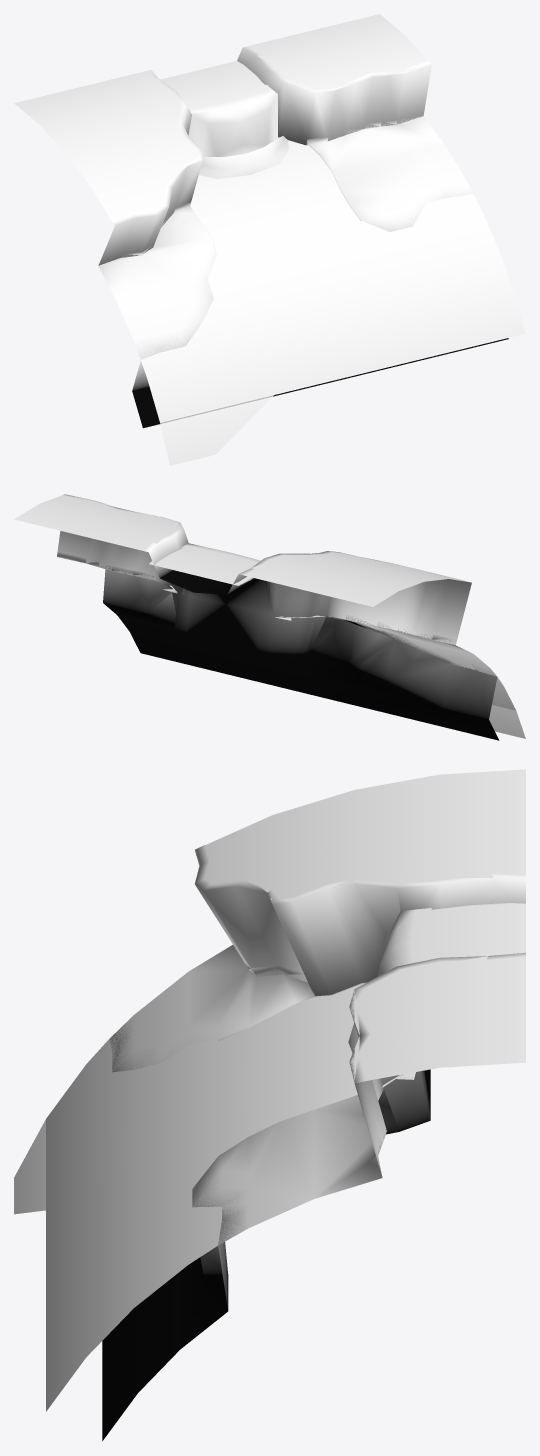
File: grd_Mse_s_R_0.dae
3 renders of one model, top to bottom at view 1: azimuth 30°, elevation 25°; view 2: azimuth 150°, elevation 25°; view 3: azimuth 270°, elevation 25°, orthographic. The views are drawn at different scales.
Visible parts, largest first — view 1: ocean_6_0, wave_9_0, grass_5_0, beach_3_0, fall_ura_1_0, beach_4_0, fall_0_0, river1_7_0, kemuri_mae_2_0, river_edge_8_0; view 2: beach_4_0, fall_ura_1_0, grass_5_0, river1_7_0, beach_3_0, wave_9_0, ocean_6_0, fall_0_0, river_edge_8_0; view 3: ocean_6_0, grass_5_0, fall_ura_1_0, beach_3_0, beach_4_0, wave_9_0, river1_7_0, fall_0_0, river_edge_8_0.
Boxes of the visible parts, x1,y1,x2,y2 form: ocean_6_0: [134, 137, 525, 422]; wave_9_0: [134, 182, 512, 465]; grass_5_0: [14, 14, 429, 223]; beach_3_0: [98, 116, 463, 339]; fall_ura_1_0: [98, 46, 431, 265]; beach_4_0: [132, 176, 508, 428]; fall_0_0: [186, 85, 277, 156]; river1_7_0: [161, 61, 264, 103]; kemuri_mae_2_0: [198, 136, 288, 178]; river_edge_8_0: [160, 61, 360, 256]; beach_4_0: [103, 569, 499, 740]; fall_ura_1_0: [57, 494, 471, 654]; grass_5_0: [14, 495, 469, 606]; river1_7_0: [150, 548, 254, 585]; beach_3_0: [57, 551, 489, 667]; wave_9_0: [367, 625, 525, 738]; ocean_6_0: [169, 585, 515, 710]; fall_0_0: [163, 543, 291, 620]; river_edge_8_0: [149, 548, 377, 630]; ocean_6_0: [46, 984, 401, 1411]; grass_5_0: [204, 769, 525, 1082]; fall_ura_1_0: [195, 845, 525, 1174]; beach_3_0: [134, 945, 384, 1227]; beach_4_0: [102, 1015, 399, 1440]; wave_9_0: [14, 1015, 252, 1355]; river1_7_0: [426, 904, 525, 959]; fall_0_0: [377, 908, 431, 1079]; river_edge_8_0: [218, 903, 525, 1155].
Bounding box in the file's own units: 512 × 332 × 378.
10 materials, 1 textured.
